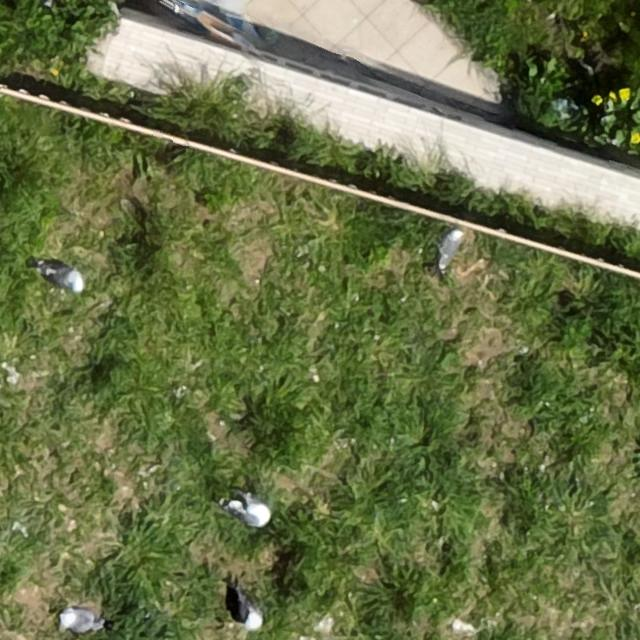umineko: (43, 266, 84, 290), (61, 609, 100, 631), (238, 499, 267, 527), (239, 596, 260, 630), (440, 231, 461, 265)
